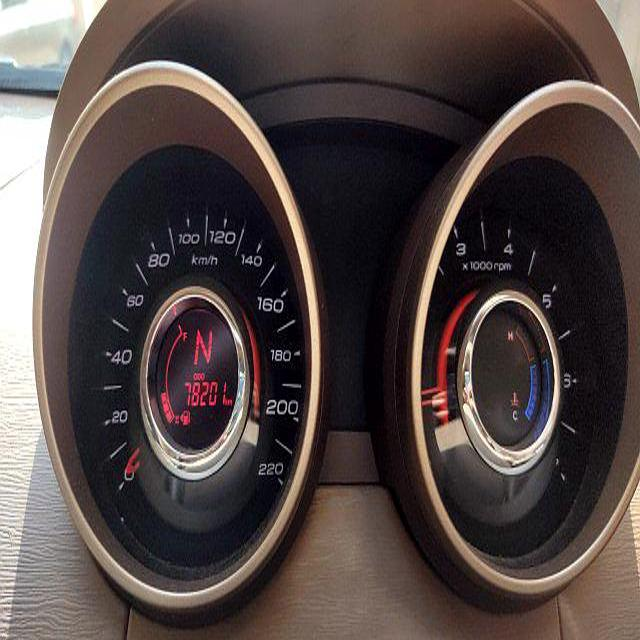odometer: (182, 378, 228, 408)
